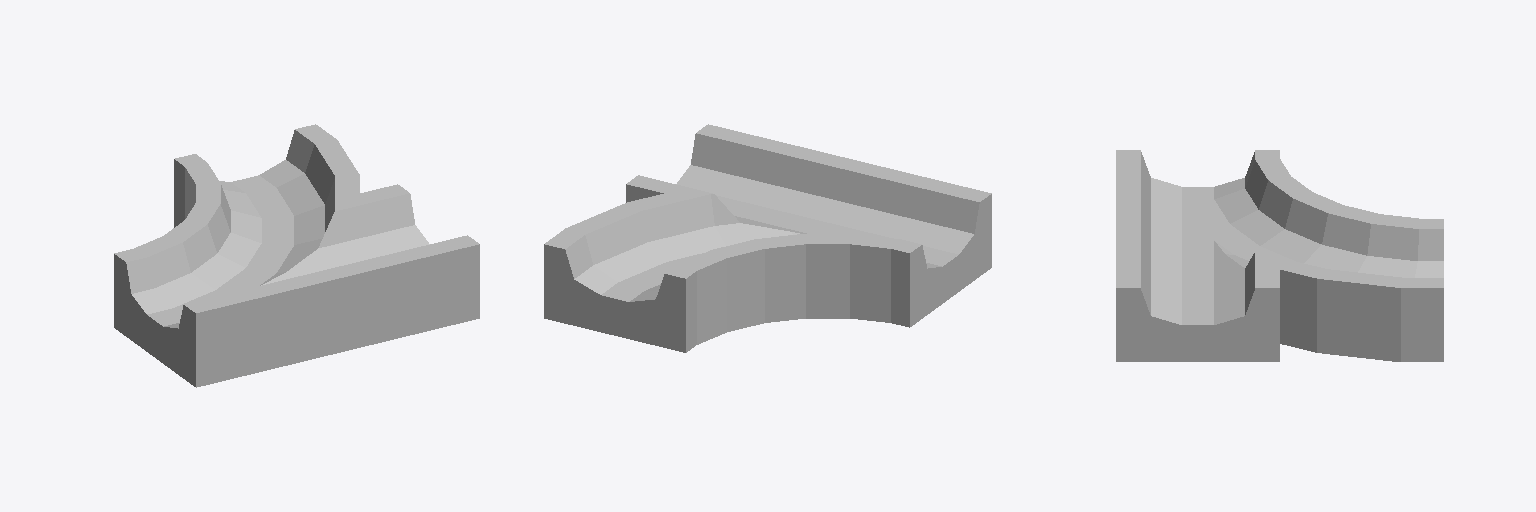
Rendered from split-left.obj.
3 views of the same model, side by side, from view 1: azimuth 30°, elevation 25°; view 2: azimuth 150°, elevation 25°; view 3: azimuth 270°, elevation 25° (orthographic).
Visible parts, largest first — view 1: split-left; view 2: split-left; view 3: split-left.
Part boxes in pixels (x1,y1,x2,y2): split-left: (114,124,479,387); split-left: (544,124,991,352); split-left: (1116,150,1443,361).
Bounding box in the file's own units: 2 × 0.5 × 2.